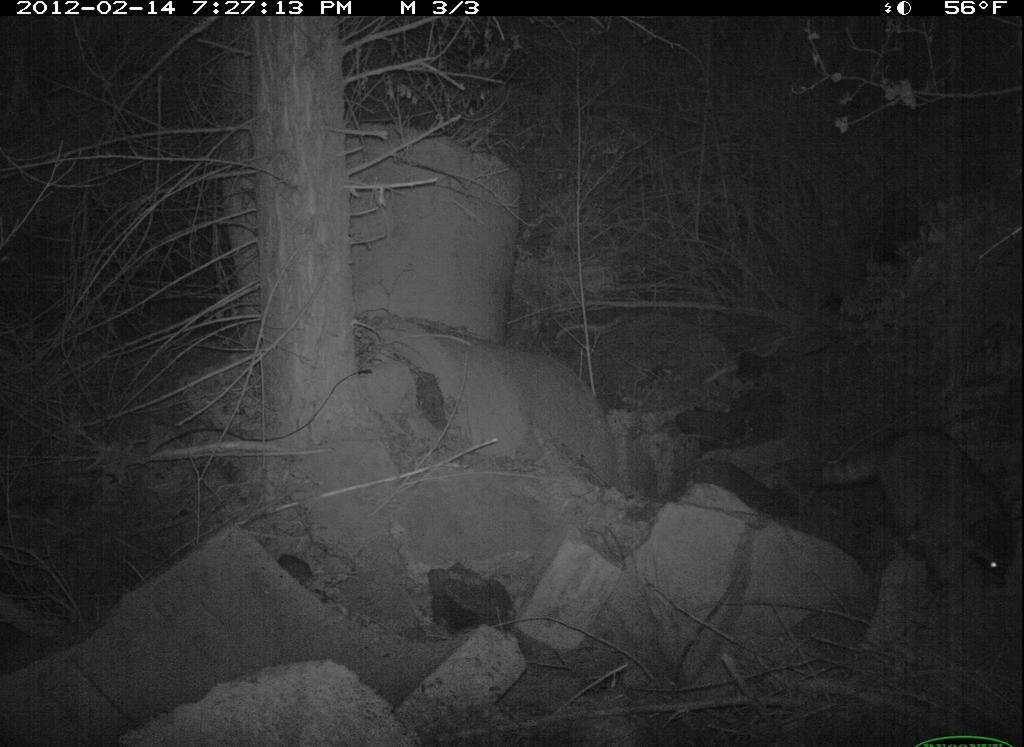raccoon: (790, 419, 1023, 602)
